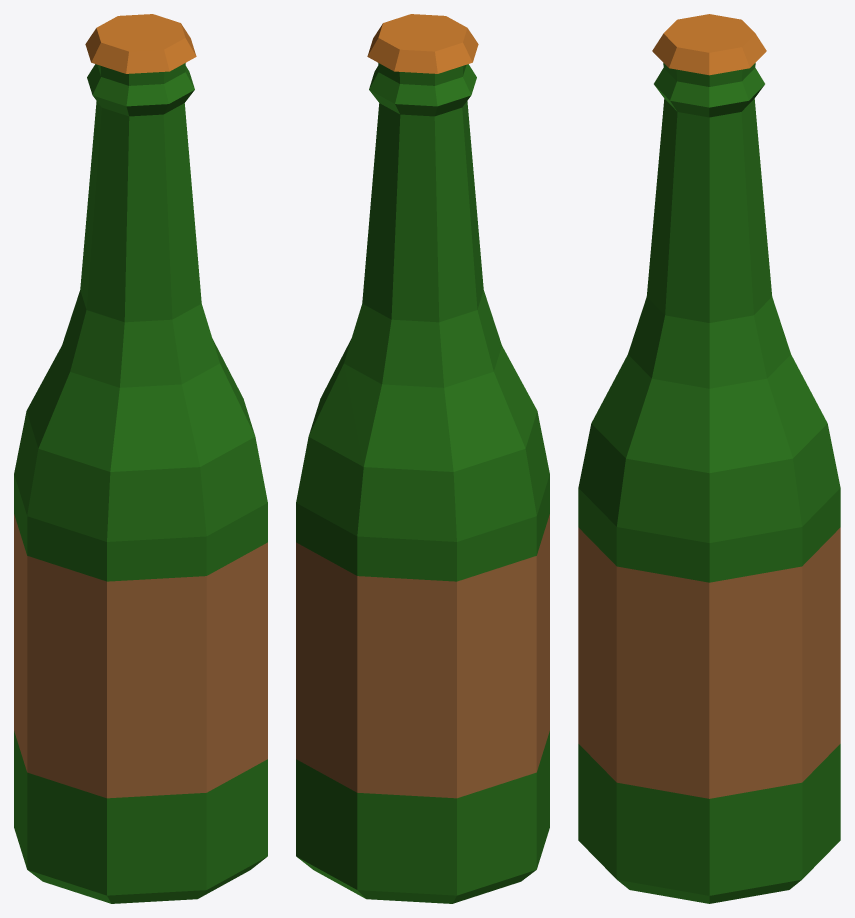
Rendered from Bottle1.obj.
3 renders of one model, left to right at view 1: azimuth 30°, elevation 25°; view 2: azimuth 150°, elevation 25°; view 3: azimuth 270°, elevation 25°, orthographic.
Visible parts, largest first — view 1: Bottle1_DarkGreen, Bottle1_LightBrown, Bottle1_BottleCap; view 2: Bottle1_DarkGreen, Bottle1_LightBrown, Bottle1_BottleCap; view 3: Bottle1_DarkGreen, Bottle1_LightBrown, Bottle1_BottleCap.
Boxes of the visible parts, x1=… form: Bottle1_DarkGreen: x1=14, y1=63, x2=267, y2=903; Bottle1_LightBrown: x1=14, y1=514, x2=267, y2=798; Bottle1_BottleCap: x1=85, y1=14, x2=196, y2=73; Bottle1_DarkGreen: x1=296, y1=63, x2=549, y2=903; Bottle1_LightBrown: x1=296, y1=514, x2=549, y2=798; Bottle1_BottleCap: x1=367, y1=14, x2=478, y2=73; Bottle1_DarkGreen: x1=578, y1=63, x2=840, y2=903; Bottle1_LightBrown: x1=578, y1=527, x2=840, y2=798; Bottle1_BottleCap: x1=652, y1=14, x2=766, y2=75.
Bounding box in the file's own units: 0.4517 × 1.56 × 0.4517.
